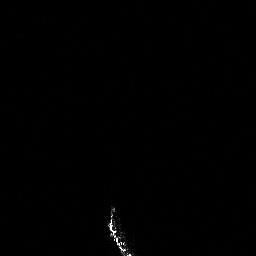ship: (105, 202, 136, 256)
